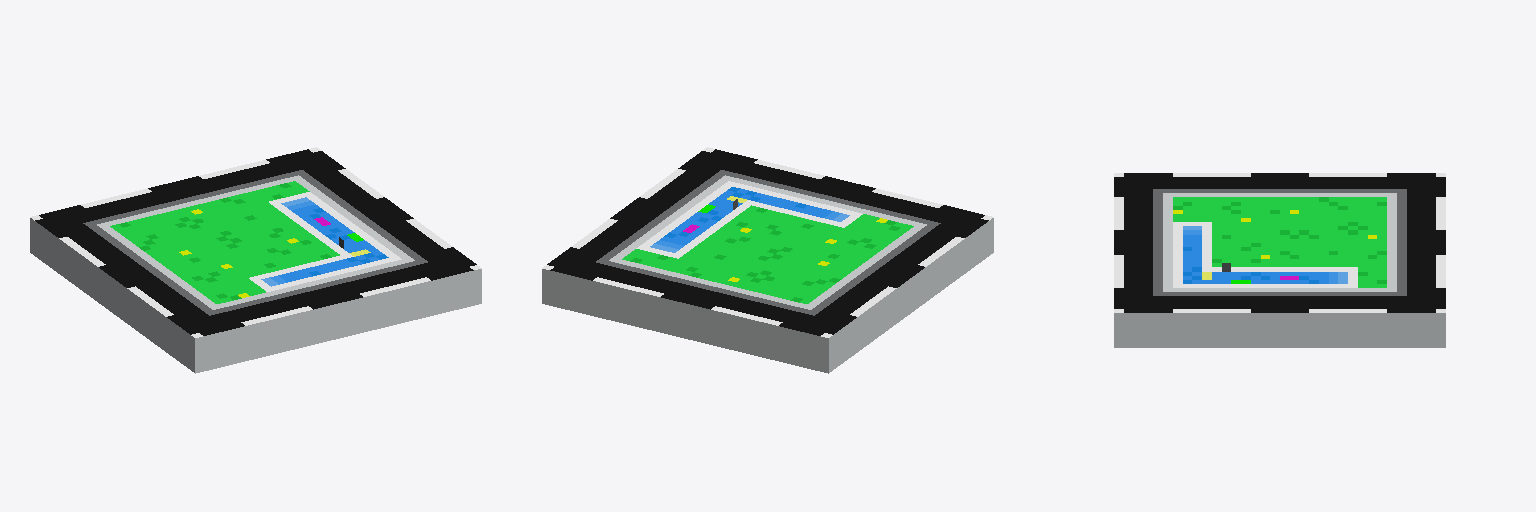
3 renders of one model, left to right at view 1: azimuth 30°, elevation 25°; view 2: azimuth 150°, elevation 25°; view 3: azimuth 270°, elevation 25°, orthographic.
Parts seen in each view (by area): view 1: cube; view 2: cube; view 3: cube.
Part boxes in pixels (x1,y1,x2,y2): cube: (30, 147, 481, 373); cube: (542, 147, 993, 373); cube: (1114, 173, 1445, 347).
Bounding box in the file's own units: 1 × 0.1471 × 1.
Materials: 1 (1 with a texture image).